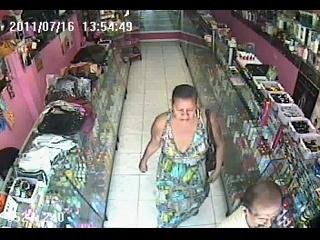Normal: (138, 84, 226, 228), (216, 180, 284, 228)
